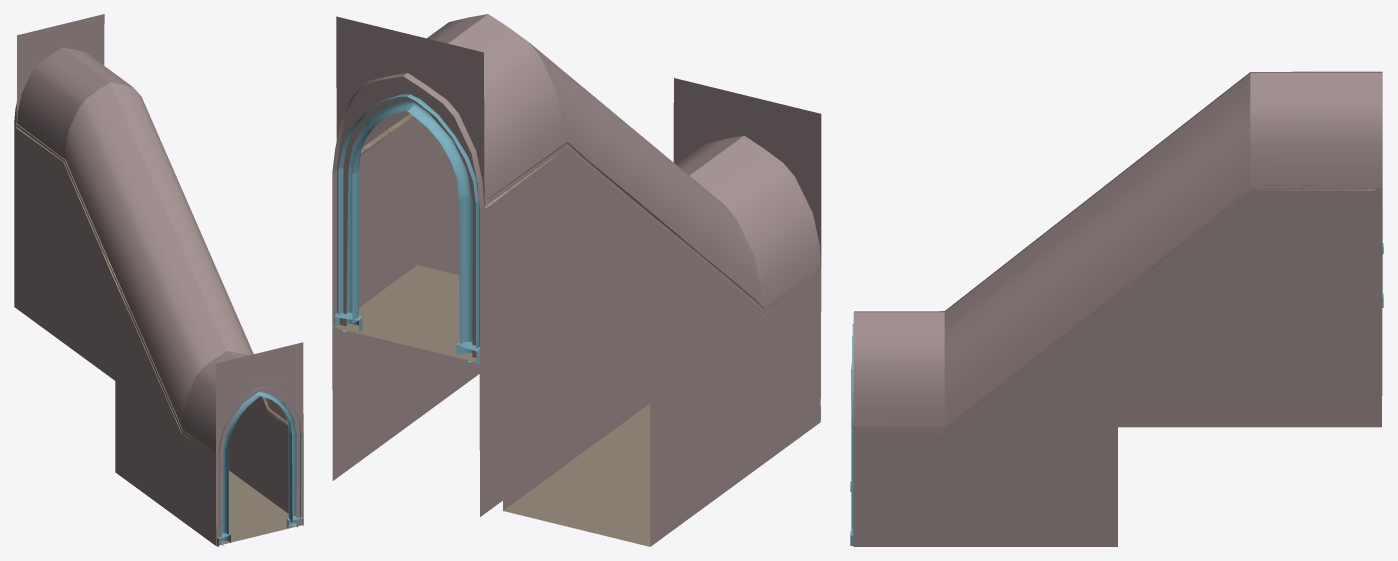
Rendered from Cath_stairs_1.FBX.
3 views of the same model, side by side, from view 1: azimuth 30°, elevation 25°; view 2: azimuth 150°, elevation 25°; view 3: azimuth 270°, elevation 25° (orthographic). The views are drawn at different scales.
Visible parts, largest first — view 1: Cath_stairs_20, Cath_stairs_12, Cath_stairs_10, Cath_stairs_17, Cath_stairs_14, Cath_stairs_11, Cath_stairs_13; view 2: Cath_stairs_12, Cath_stairs_20, Cath_stairs_17, Cath_stairs_14, Cath_stairs_10, Cath_stairs_15, Cath_stairs_16, Cath_stairs_09, Cath_stairs_13; view 3: Cath_stairs_17, Cath_stairs_20, Cath_stairs_11.
Part boxes in pixels (x1=…): Cath_stairs_20: x1=14, y1=47, x2=303, y2=454; Cath_stairs_12: x1=14, y1=124, x2=216, y2=545; Cath_stairs_10: x1=215, y1=342, x2=303, y2=545; Cath_stairs_17: x1=229, y1=396, x2=303, y2=524; Cath_stairs_14: x1=16, y1=14, x2=104, y2=126; Cath_stairs_11: x1=217, y1=387, x2=303, y2=546; Cath_stairs_13: x1=216, y1=488, x2=295, y2=544; Cath_stairs_12: x1=479, y1=147, x2=821, y2=546; Cath_stairs_20: x1=332, y1=14, x2=820, y2=310; Cath_stairs_17: x1=332, y1=117, x2=650, y2=510; Cath_stairs_14: x1=336, y1=16, x2=484, y2=357; Cath_stairs_10: x1=673, y1=78, x2=821, y2=271; Cath_stairs_15: x1=334, y1=94, x2=479, y2=364; Cath_stairs_16: x1=503, y1=448, x2=650, y2=546; Cath_stairs_09: x1=333, y1=265, x2=479, y2=363; Cath_stairs_13: x1=588, y1=403, x2=650, y2=463; Cath_stairs_17: x1=853, y1=188, x2=1382, y2=546; Cath_stairs_20: x1=853, y1=71, x2=1382, y2=427; Cath_stairs_11: x1=850, y1=323, x2=853, y2=546.
Bounding box in the file's own units: 405 × 1593 × 1572.
